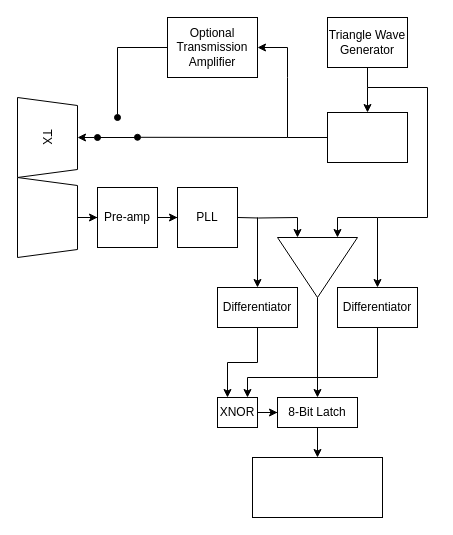
Image size: 453x535. Some labels were removed from this diagram. The box of each missing label's shape, as (x1, y1, x2, y2) in pixels:
Differential Amp: (276, 236, 358, 298)
Microcontroller: (252, 456, 382, 518)
RX: (16, 176, 78, 258)
VCO: (326, 112, 408, 162)
